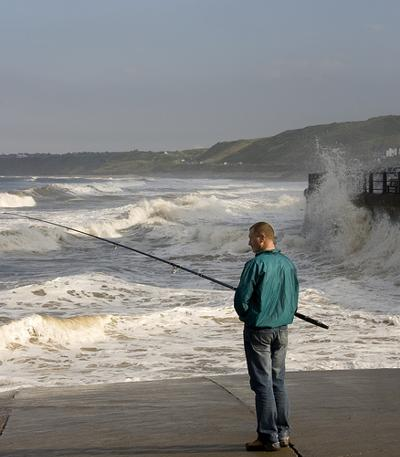person: (234, 221, 300, 452)
